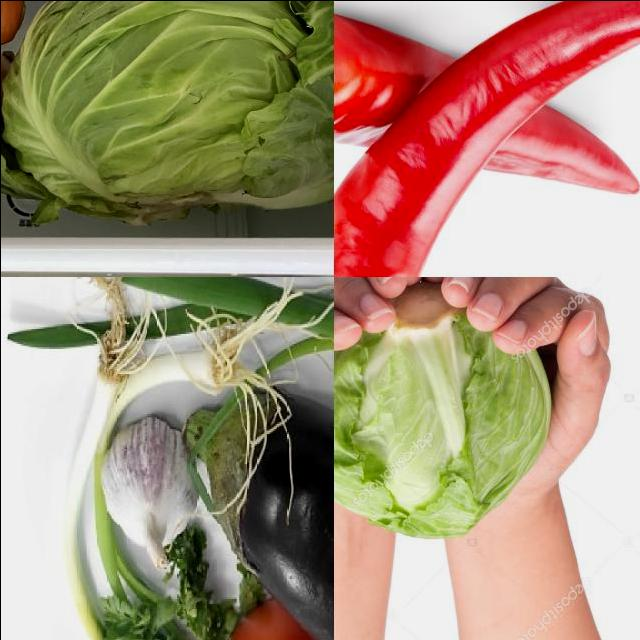cabbage: (1, 1, 334, 229), (334, 282, 554, 548)
eggplant: (186, 383, 334, 640)
garlic: (334, 1, 640, 277), (334, 9, 636, 207), (99, 418, 198, 564)
